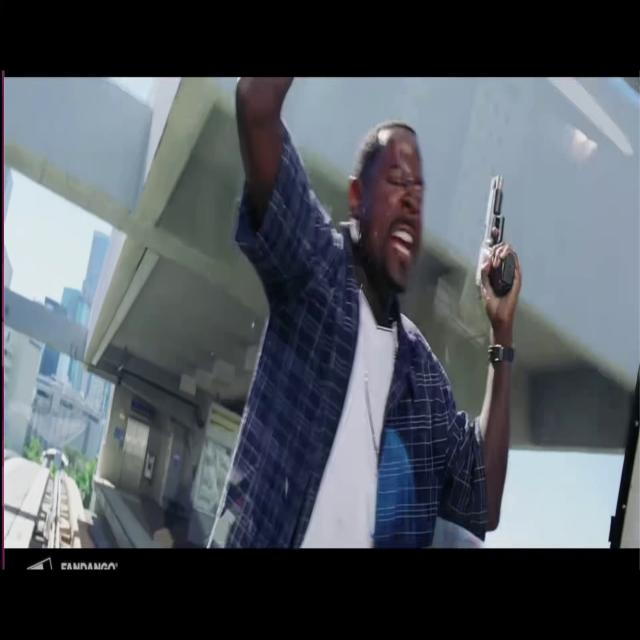weapons: (471, 160, 522, 318)
